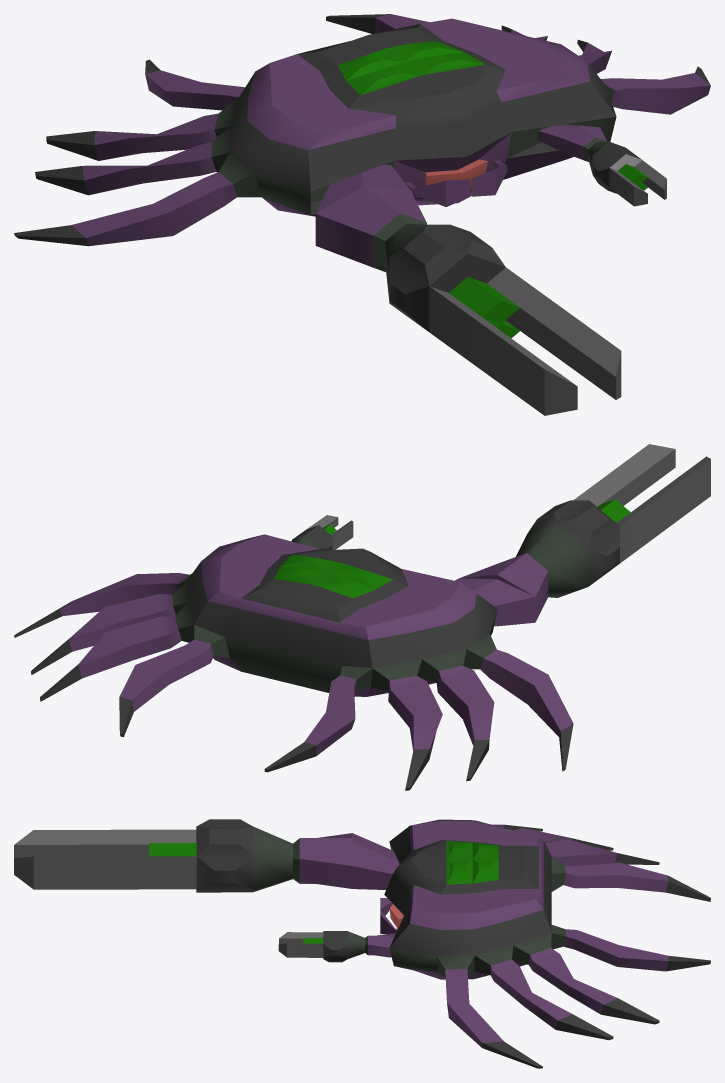
The model's file is ship_evilcrab.fbx.
3 renders of one model, top to bottom at view 1: azimuth 30°, elevation 25°; view 2: azimuth 150°, elevation 25°; view 3: azimuth 270°, elevation 25°, orthographic. The views are drawn at different scales.
Parts seen in each view (by area): view 1: body, bigclaw, smallclaw, rightmandible, leftmandible; view 2: body, bigclaw, smallclaw; view 3: body, bigclaw, smallclaw.
Boxes of the visible parts, bbox=[...] form: body: bbox=[14, 14, 710, 246]; bigclaw: bbox=[315, 164, 621, 415]; smallclaw: bbox=[537, 124, 666, 206]; rightmandible: bbox=[405, 179, 469, 206]; leftmandible: bbox=[471, 160, 507, 196]; body: bbox=[14, 534, 573, 790]; bigclaw: bbox=[455, 444, 710, 626]; smallclaw: bbox=[291, 515, 353, 549]; body: bbox=[384, 819, 710, 1068]; bigclaw: bbox=[14, 819, 399, 892]; smallclaw: bbox=[278, 931, 395, 962].
Size of the model in its own units: 3.66 by 0.668 by 4.54.
